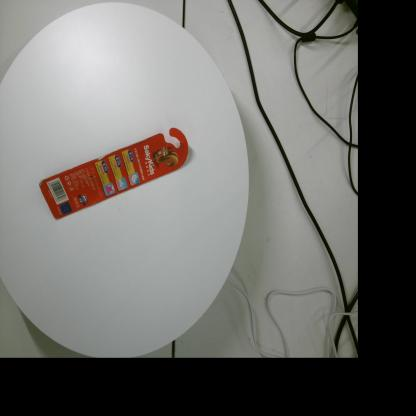Personal Hygiene: (39, 128, 188, 219)
